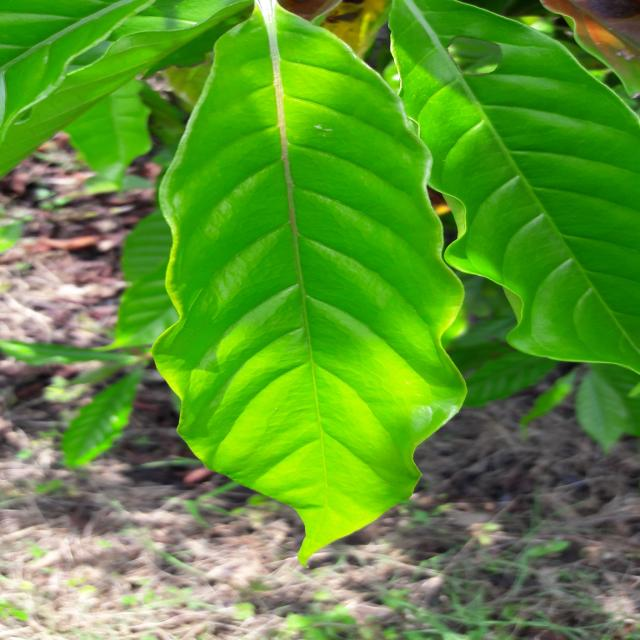Sanas: (152, 0, 467, 560)
